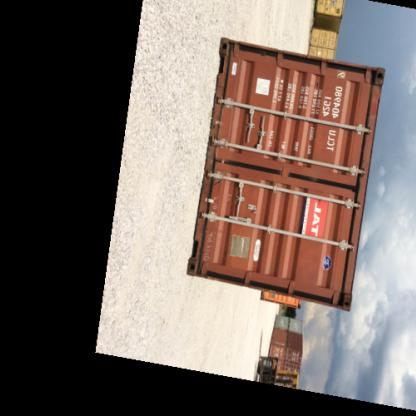Damage: (220, 144, 241, 174)
